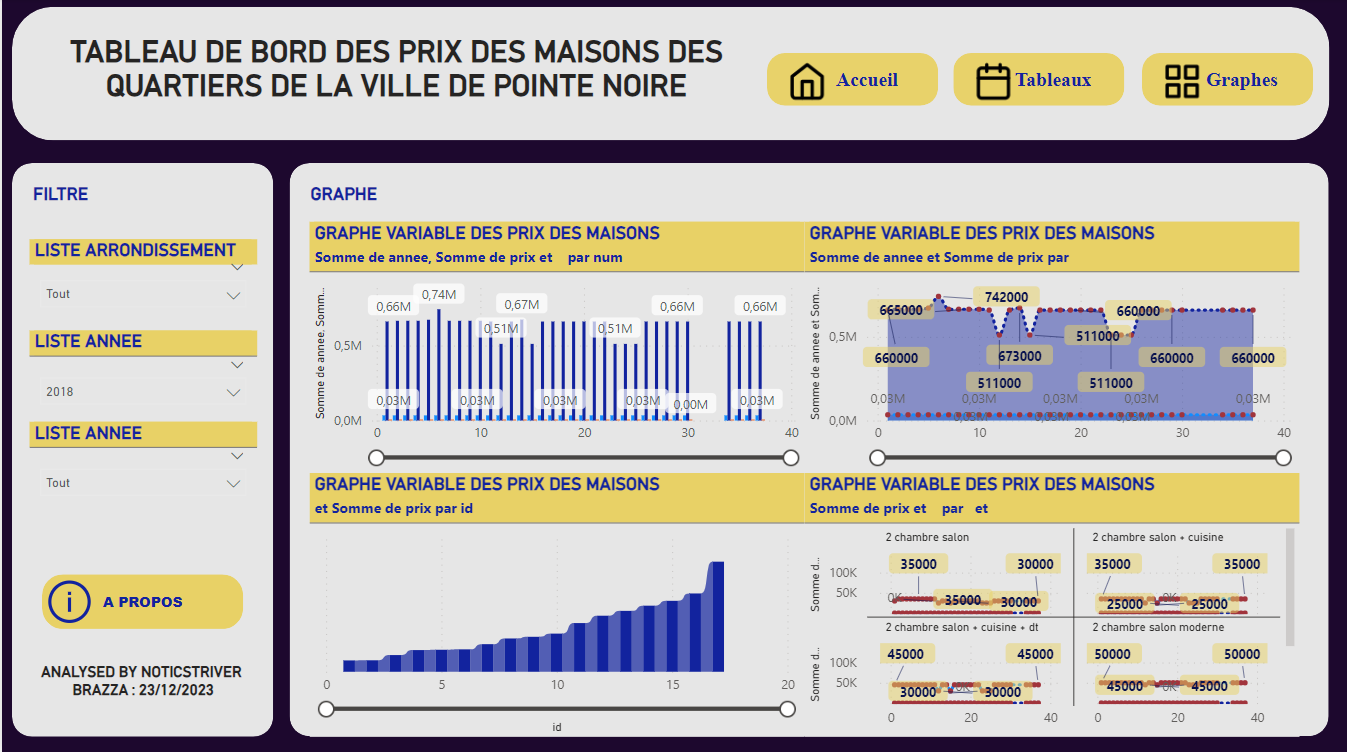

What the dashboard file says about the page in this screenshot:
{"tool":"powerbi","page":{"name":"accueil","canvas":[1280,720],"ordinal":0},"visuals":[{"type":"shape","box":[9.5,8.3,1254.3,127.3],"z":0},{"type":"textbox","box":[59,28.8,632.1,86.4],"z":1000},{"type":"shape","box":[9.5,157.1,248.7,546.2],"z":4000},{"type":"slicer","title":"LISTE ARRONDISSEMENT","fields":{"Values":["arrondissement.libelle"]},"box":[26.2,229.7,216.6,86.9],"z":8000},{"type":"slicer","title":"LISTE ANNEE","fields":{"Values":["detail.annee"]},"box":[26.2,316.6,216.6,86.9],"z":9000},{"type":"slicer","title":"LISTE ANNEE","fields":{"Values":["quartier.libelle"]},"box":[26.2,403.4,216.6,86.9],"z":10000},{"type":"textbox","box":[26.2,627.2,216.6,54.7],"z":11000},{"type":"actionButton","box":[38.1,548.6,191.6,52.4],"z":14000},{"type":"actionButton","box":[728.6,52.9,163,50.2],"z":15000},{"type":"actionButton","box":[1085.2,52.9,163,50.2],"z":16000},{"type":"actionButton","box":[905.5,52.9,163,50.2],"z":17000},{"type":"shape","box":[274.1,157.5,989.3,545.8],"z":18000},{"type":"lineClusteredColumnComboChart","title":"GRAPHE VARIABLE DES PRIX DES MAISONS","fields":{"Category":["quartier.num"],"Y":["Sum(detail.annee)","Sum(detail.prix)","mesure.nbre_annnee"]},"box":[293.3,212.8,471.2,251.2],"z":19000},{"type":"areaChart","title":"GRAPHE VARIABLE DES PRIX DES MAISONS","fields":{"Y":["Sum(detail.annee)","Sum(detail.prix)"],"Category":["detail.quartier"]},"box":[764.5,212.8,471.2,251.2],"z":20000},{"type":"ribbonChart","title":"GRAPHE VARIABLE DES PRIX DES MAISONS","fields":{"Category":["type.id"],"Y":["mesure.nbre_annnee","Sum(detail.prix)"]},"box":[293.3,452,471.2,251.2],"z":21000},{"type":"lineChart","title":"GRAPHE VARIABLE DES PRIX DES MAISONS","fields":{"Category":["detail.quartier"],"Y":["Sum(detail.prix)","mesure.nbre_annnee"],"Rows":["type.libellé"]},"box":[764.5,452,471.2,251.2],"z":22000}]}

Visuals, with their boxes in screenshot pixels (x1, y1, x2, y2), scaled from the page's 1280x720 canvas onto the 1347x752 screenshot:
shape: left=10, top=9, right=1330, bottom=142
textbox: left=62, top=30, right=727, bottom=120
shape: left=10, top=164, right=272, bottom=735
"LISTE ARRONDISSEMENT" slicer: left=28, top=240, right=256, bottom=331
"LISTE ANNEE" slicer: left=28, top=331, right=256, bottom=421
"LISTE ANNEE" slicer: left=28, top=421, right=256, bottom=512
textbox: left=28, top=655, right=256, bottom=712
actionButton: left=40, top=573, right=242, bottom=628
actionButton: left=767, top=55, right=938, bottom=108
actionButton: left=1142, top=55, right=1314, bottom=108
actionButton: left=953, top=55, right=1124, bottom=108
shape: left=288, top=164, right=1330, bottom=735
"GRAPHE VARIABLE DES PRIX DES MAISONS" lineClusteredColumnComboChart: left=309, top=222, right=805, bottom=485
"GRAPHE VARIABLE DES PRIX DES MAISONS" areaChart: left=805, top=222, right=1300, bottom=485
"GRAPHE VARIABLE DES PRIX DES MAISONS" ribbonChart: left=309, top=472, right=805, bottom=734
"GRAPHE VARIABLE DES PRIX DES MAISONS" lineChart: left=805, top=472, right=1300, bottom=734
